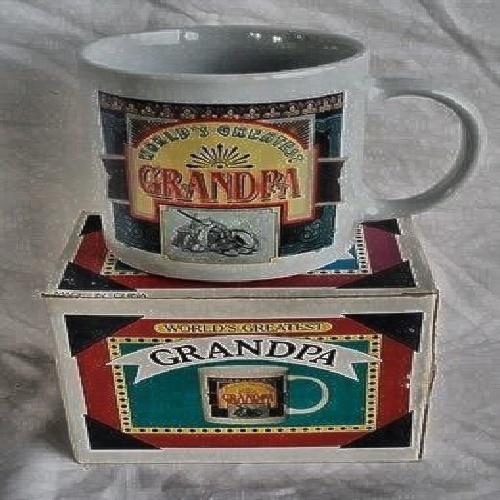mug: (74, 29, 469, 273)
